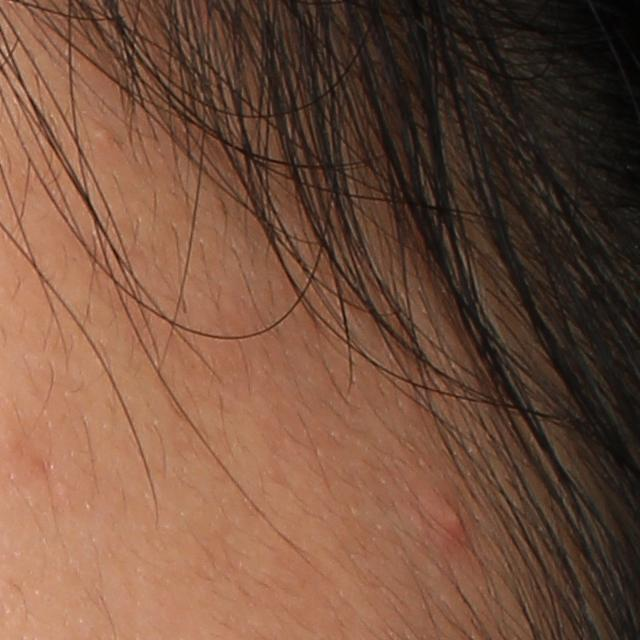comedo: (94, 125, 116, 147)
papule: (437, 497, 473, 543)
